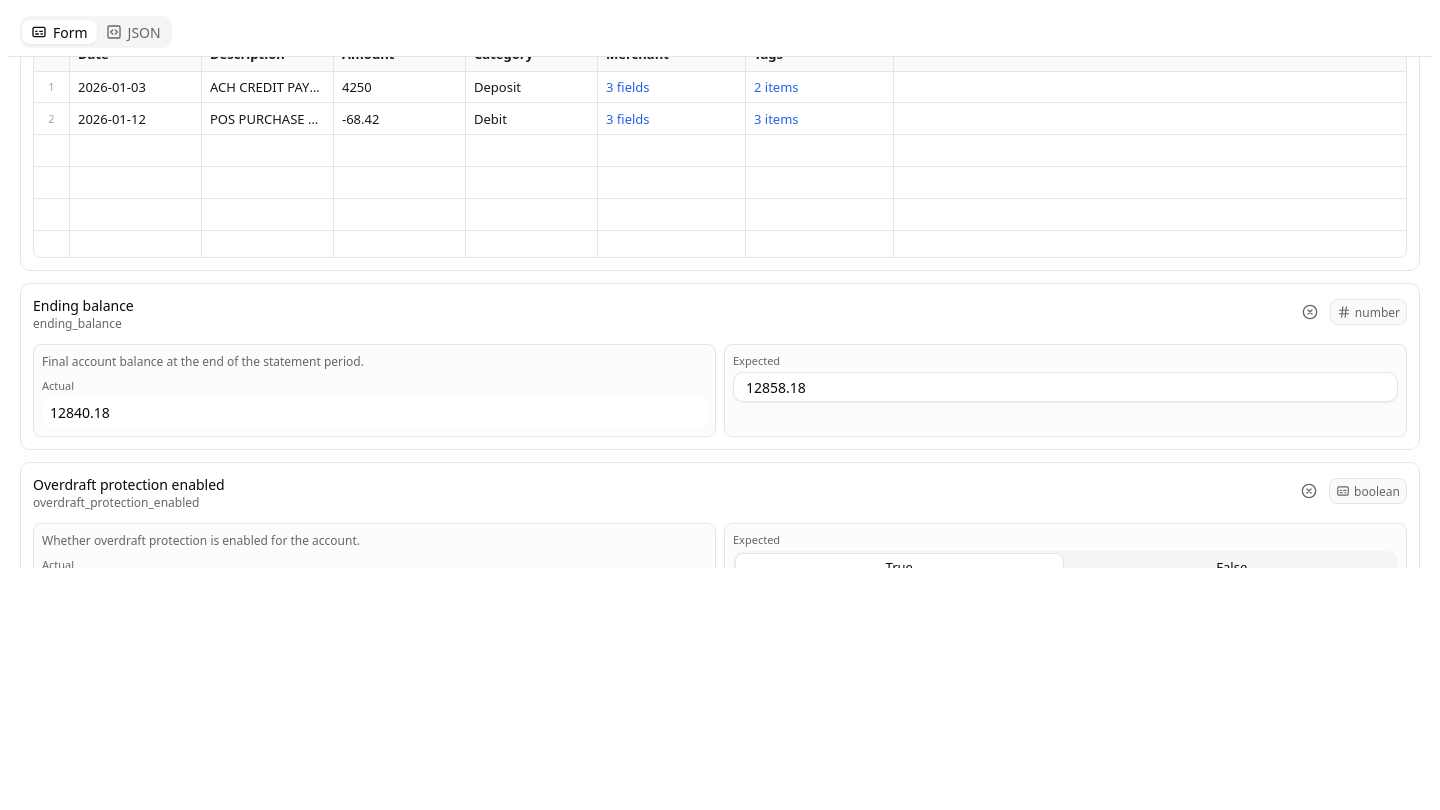
Test case: HumanReviewPanel › sets a field to NULL
(page scrolled)
What coordinates should you click on to do the following:
click the button named "Set ending_balance to null"
I would click on:
 (1310, 312)
Its box is top-left (1294, 296), bottom-right (1326, 328).
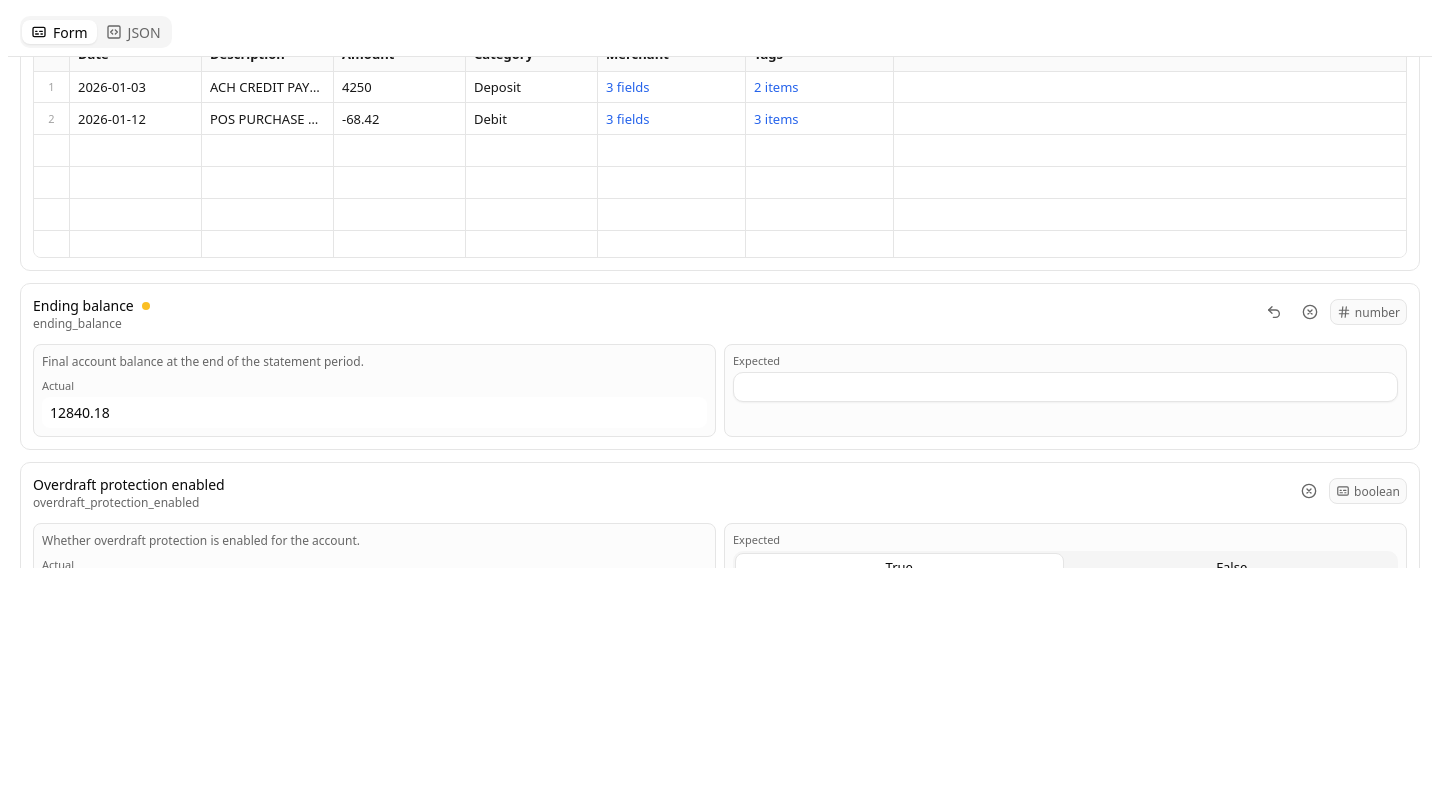
Expected: the number field named "Expected ending_balance" is not empty, top-left (733, 372), bottom-right (1398, 402)
